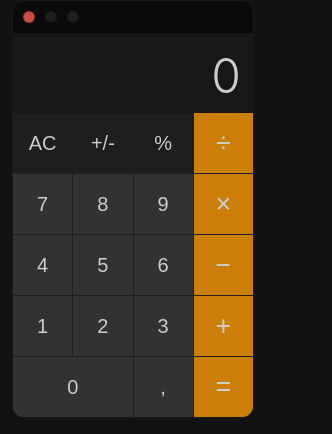
Test case: CalculatorWindow › resets (AC)
Click the button "2": (103, 326) [73,296,133,356]
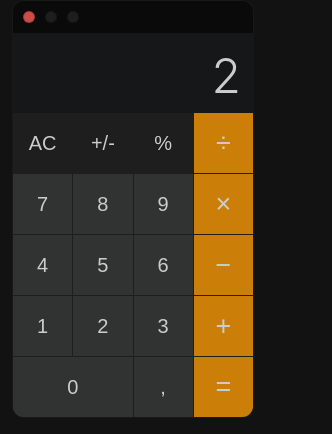
Click the button "+": (223, 326) [194,296,253,356]
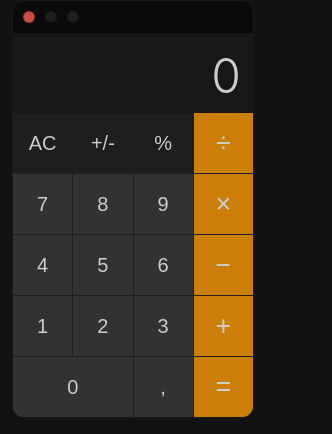
Click the button "2": (103, 326) [73,296,133,356]
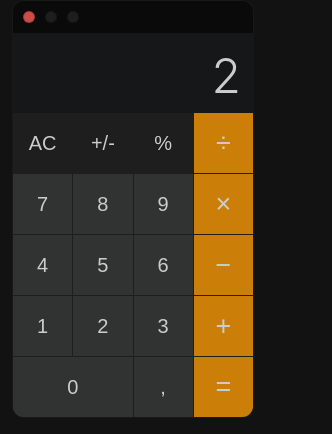
Click the button "AC": (43, 143) [13,113,72,173]
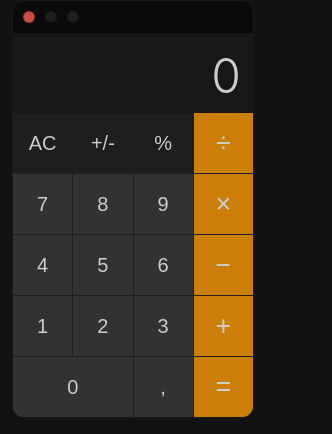
Check: the text "0" is shown, box [211,46,241,113]
